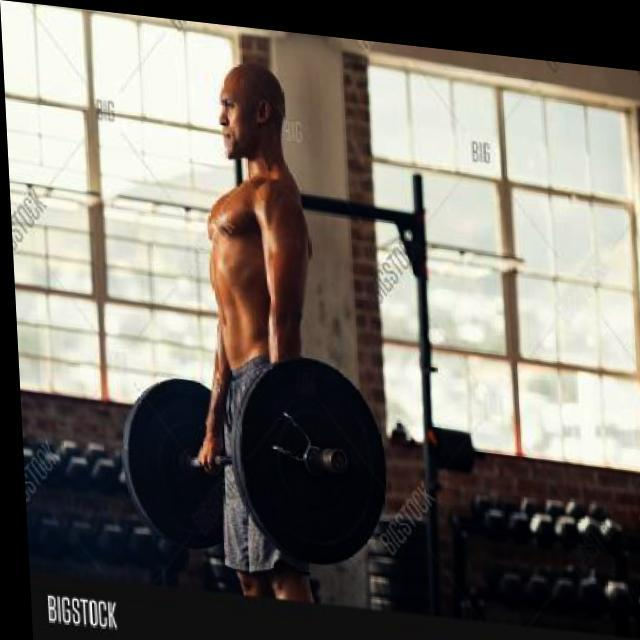barbell: (225, 340, 391, 571)
